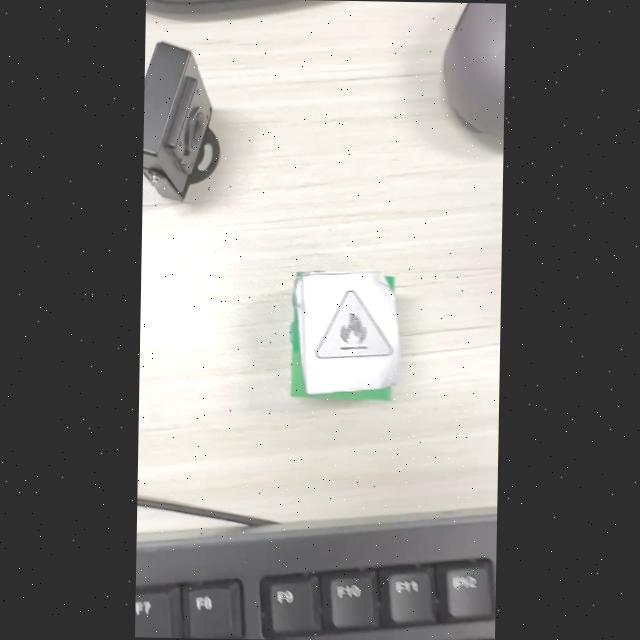Fire: (315, 290, 391, 358)
